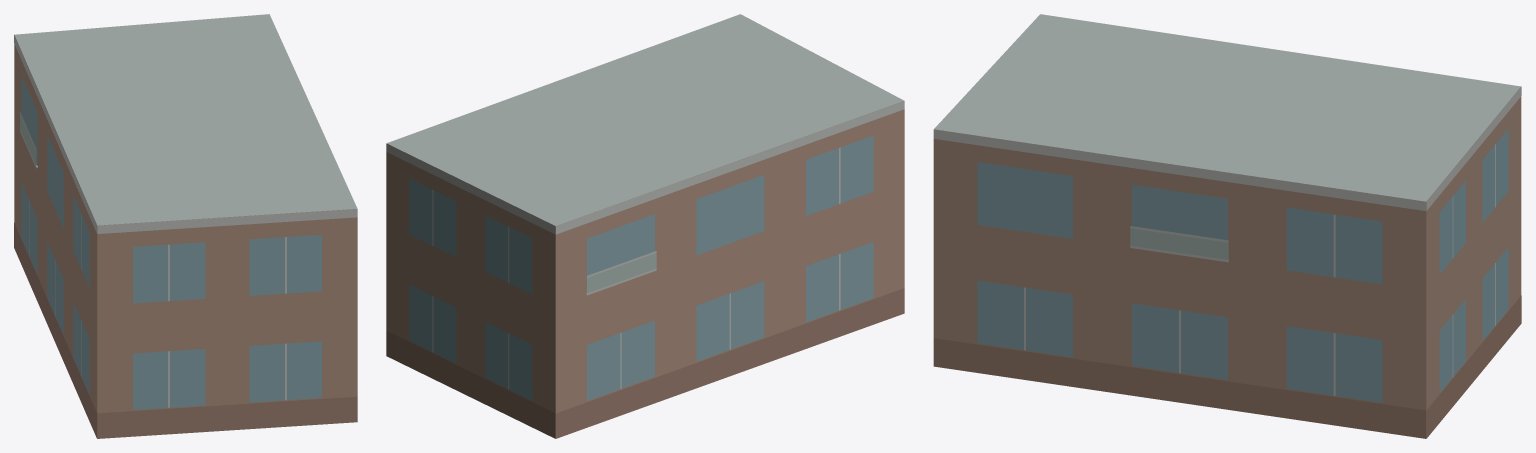
File: survey-upis-32547361.glb
The picture shows the model from 3 angles, left to right: view 1: azimuth 30°, elevation 25°; view 2: azimuth 150°, elevation 25°; view 3: azimuth 270°, elevation 25°; orthographic projection. The views are drawn at different scales.
Visible parts, largest first — view 1: survey-upis-32547361.tmp; view 2: survey-upis-32547361.tmp; view 3: survey-upis-32547361.tmp.
Boxes of the visible parts, <box> form: survey-upis-32547361.tmp: <box>14,14,357,438</box>; survey-upis-32547361.tmp: <box>386,14,904,438</box>; survey-upis-32547361.tmp: <box>933,14,1521,438</box>.
Bounding box in the file's own units: 10.36 × 6.1 × 13.71.
